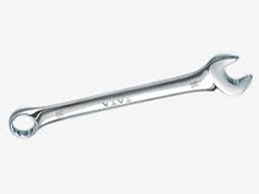Wrench: (8, 48, 254, 135)
